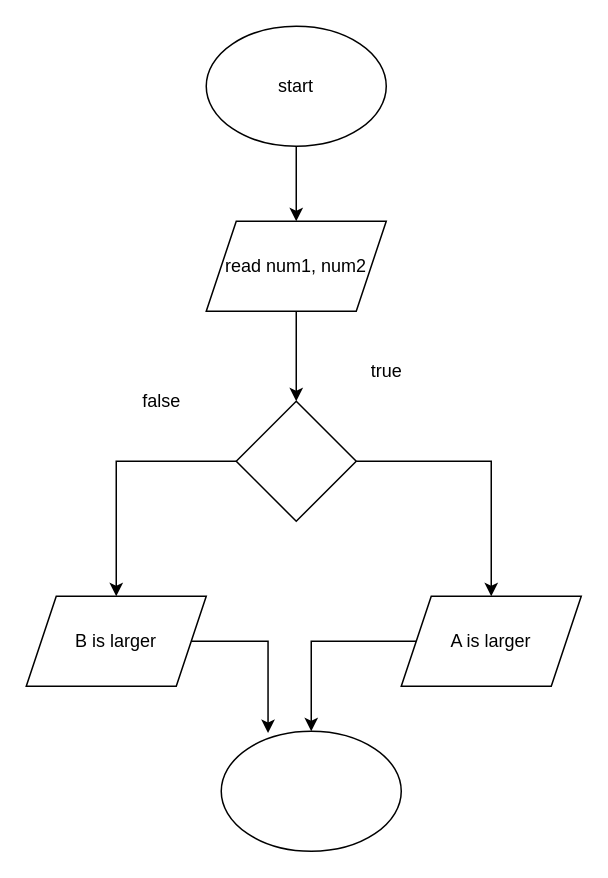
Image size: 608x878. Some labels were removed from this diagram. Each missing label, with the centre of its shape:
A >B ?: point (295, 460)
stop: point (310, 790)
